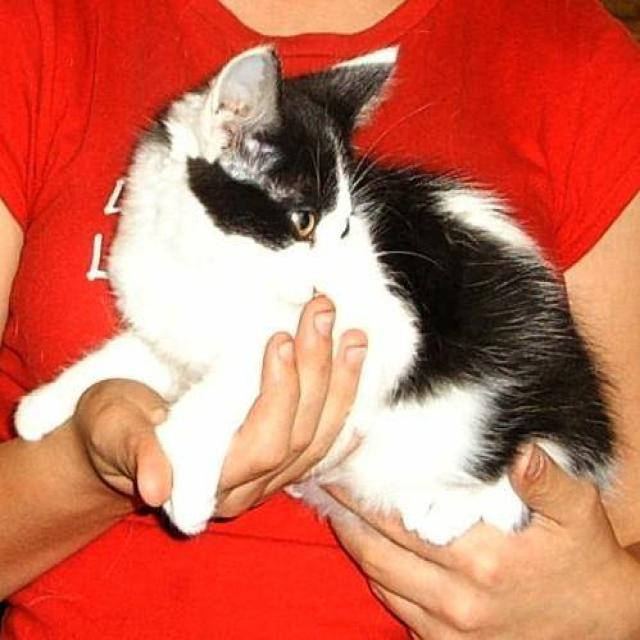Cat: (163, 40, 387, 333)
